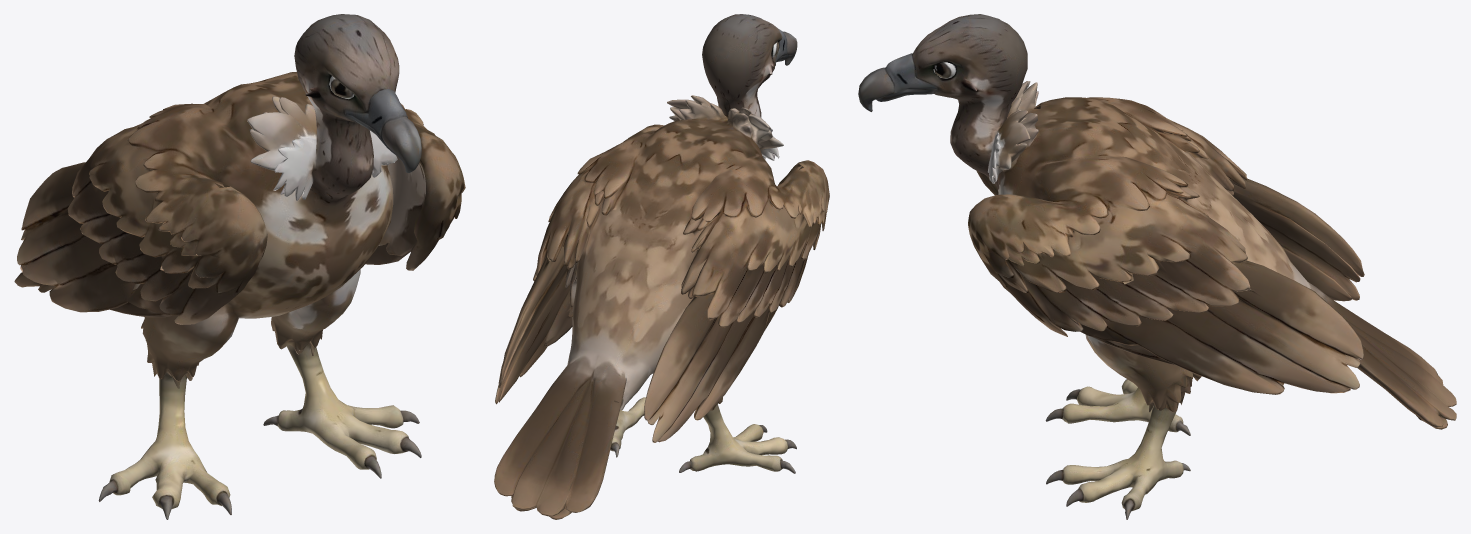
3 views of the same model, side by side, from view 1: azimuth 30°, elevation 25°; view 2: azimuth 150°, elevation 25°; view 3: azimuth 270°, elevation 25° (orthographic). The views are drawn at different scales.
Parts seen in each view (by area): view 1: geometry_0; view 2: geometry_0; view 3: geometry_0.
Boxes of the visible parts, bbox=[...] form: geometry_0: bbox=[14, 14, 465, 519]; geometry_0: bbox=[494, 14, 829, 519]; geometry_0: bbox=[858, 14, 1456, 519].
Size of the model in its own units: 0.5034 by 0.7607 by 0.9497.
Materials: 1 (1 with a texture image).
